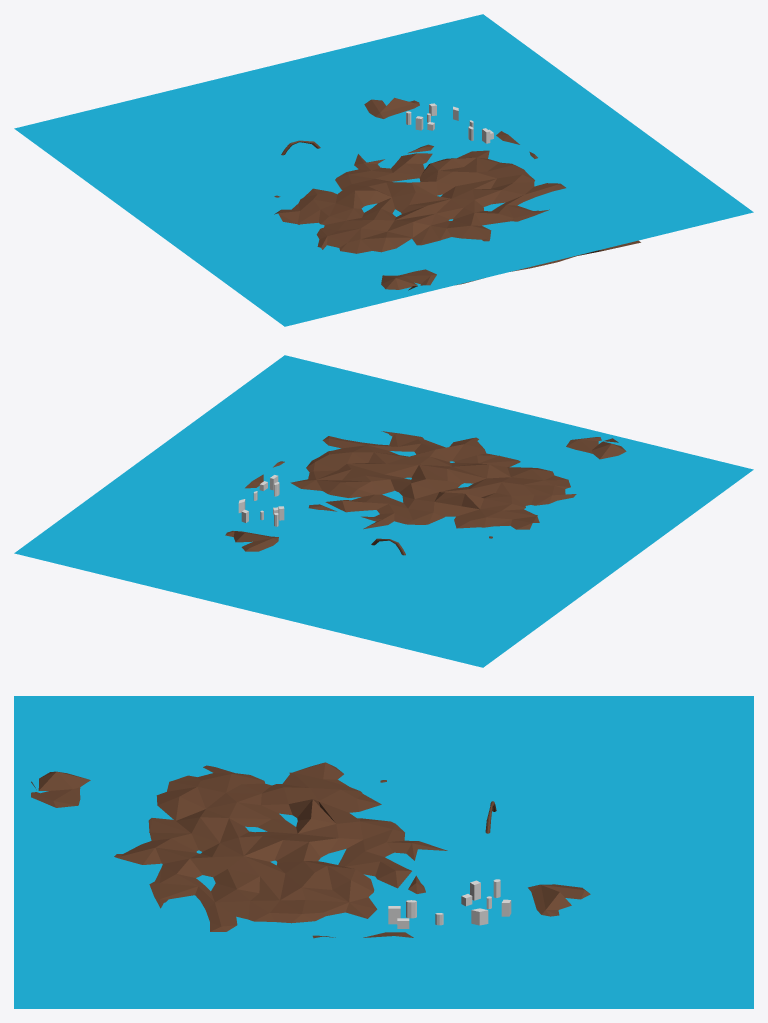
The model's file is Level.fbx.
The picture shows the model from 3 angles, top to bottom: view 1: azimuth 30°, elevation 25°; view 2: azimuth 150°, elevation 25°; view 3: azimuth 270°, elevation 25°; orthographic projection. The views are drawn at different scales.
Parts seen in each view (by area): view 1: Ocean, Land; view 2: Ocean, Land; view 3: Ocean, Land, Buildings02, Buildings.
Part boxes in pixels (x1,y1,x2,y2): Ocean: (14, 14, 753, 326); Land: (274, 97, 640, 290); Ocean: (14, 355, 753, 667); Land: (225, 431, 626, 555); Ocean: (14, 696, 753, 1008); Land: (31, 762, 590, 938); Buildings02: (388, 900, 488, 928); Buildings: (461, 879, 511, 916).
Size of the model in its own units: 80000 by 3971 by 80000.
